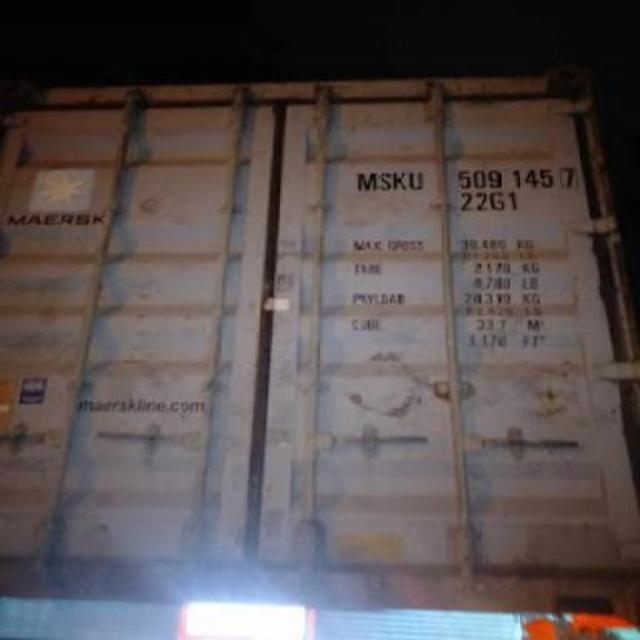0: (472, 170, 488, 190)
1: (510, 168, 526, 188)
4: (524, 168, 540, 188)
5: (538, 166, 556, 188), (456, 170, 472, 190)
7: (560, 167, 576, 185)
9: (486, 170, 504, 190)
K: (392, 172, 408, 190)
M: (356, 172, 380, 194)
S: (378, 173, 394, 191)
U: (408, 170, 426, 190)
